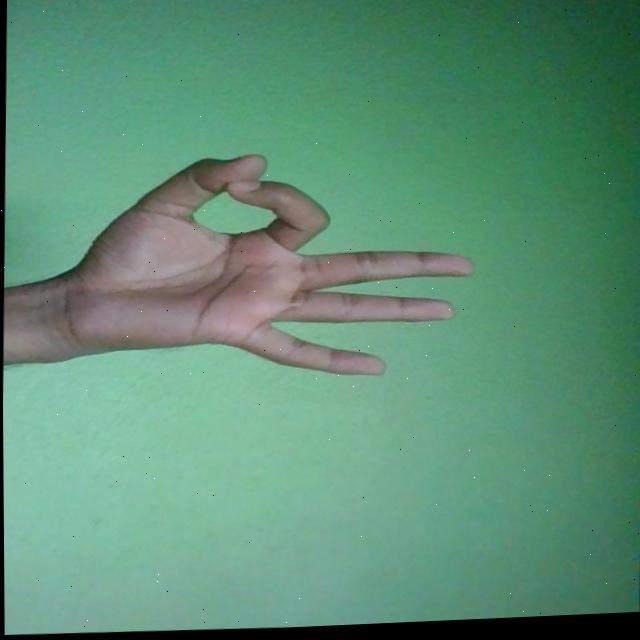Ok: (47, 143, 476, 393)
